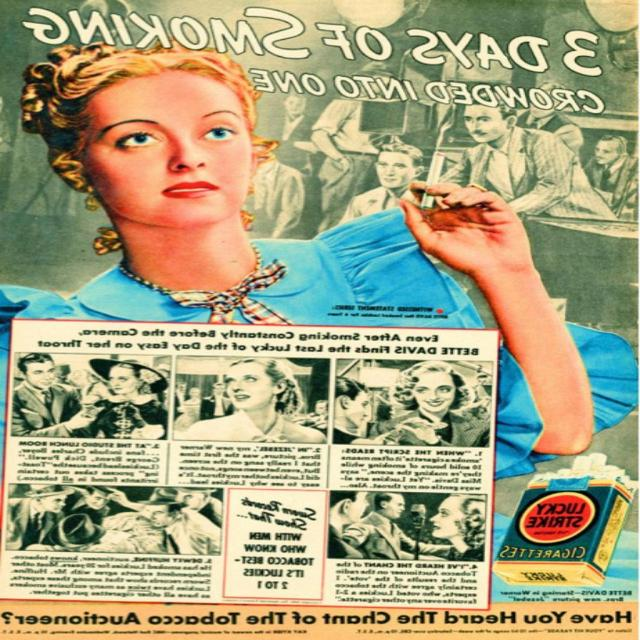smoking: (64, 52, 548, 288)
